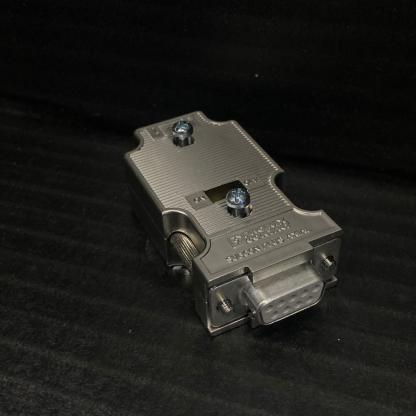SP0000010: (85, 79, 361, 368)
